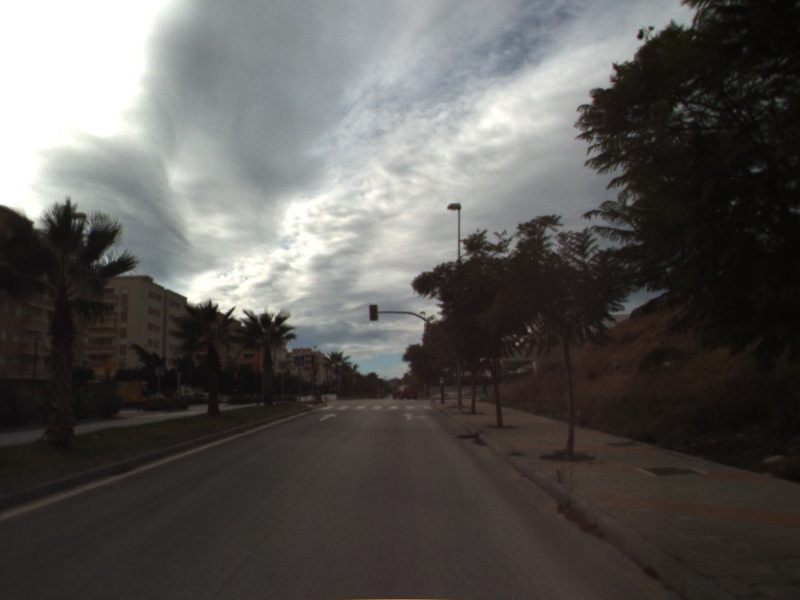STRAIGHT: (318, 411, 338, 423)
STRAIGHT_RIGHT: (400, 410, 428, 422)
